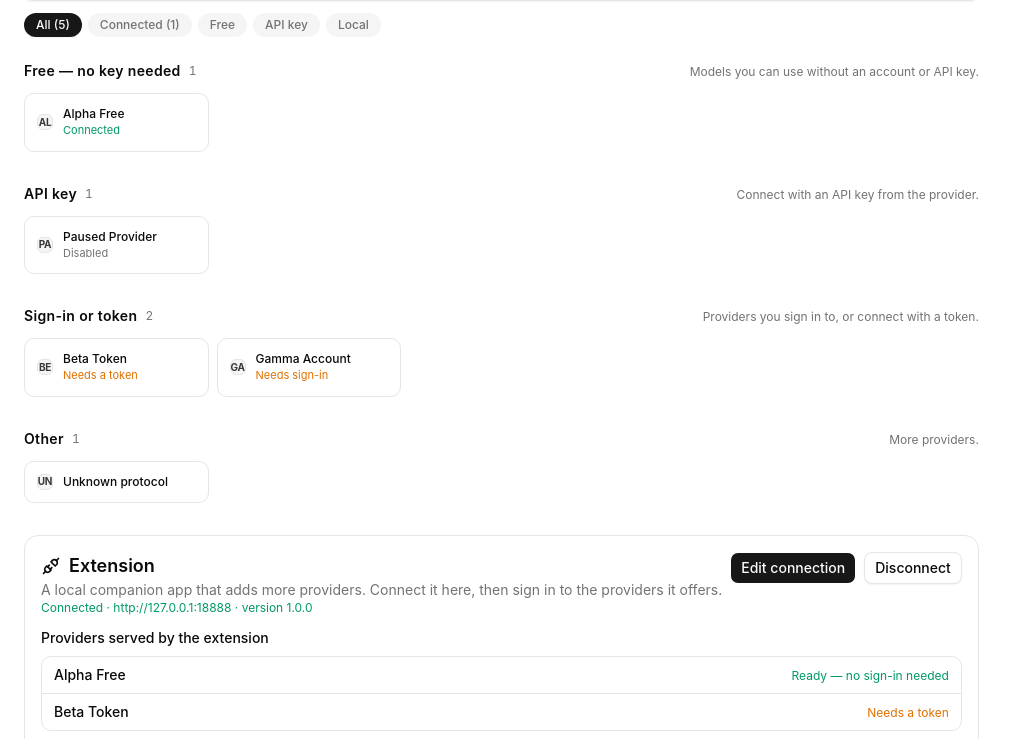
Scenario: ModelsWorkspace › providers the extension serves › says so when the extension no longer offers a provider
(page scrolled)
Click the button with aria-label "Manage Gamma Account". click: (309, 367)
box: [217, 338, 401, 396]
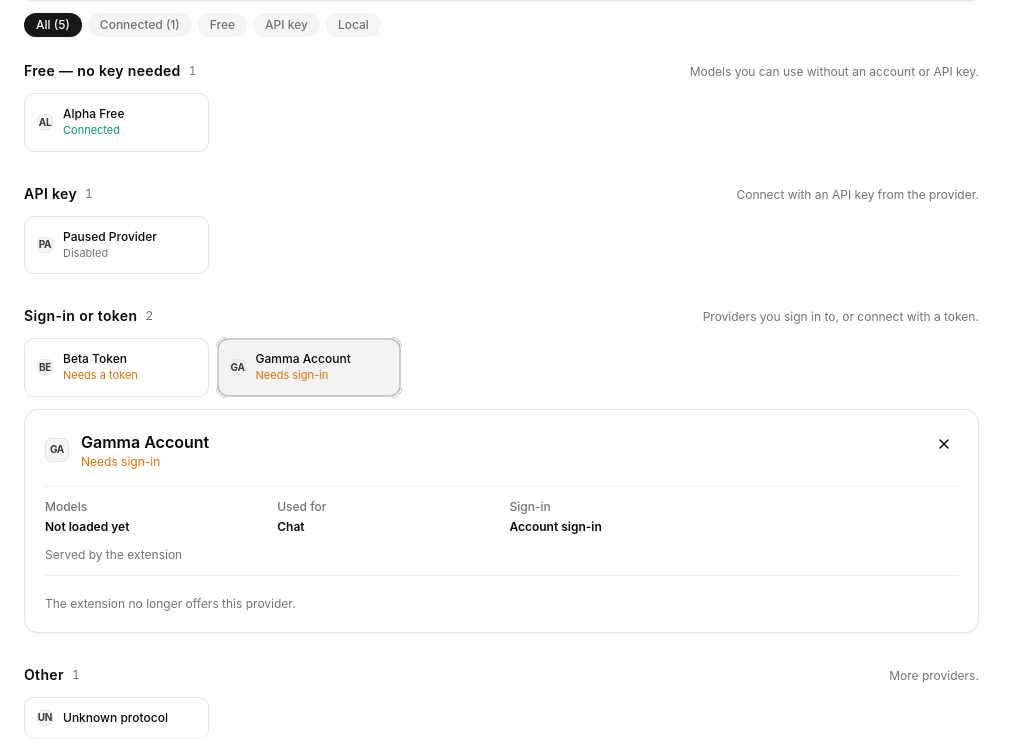
Expected: the element "Gamma Account" does not show "Connect it in", [24, 408, 979, 632]
Now the text "The extension no longer offers this provider." is shown, box [45, 596, 296, 612]
